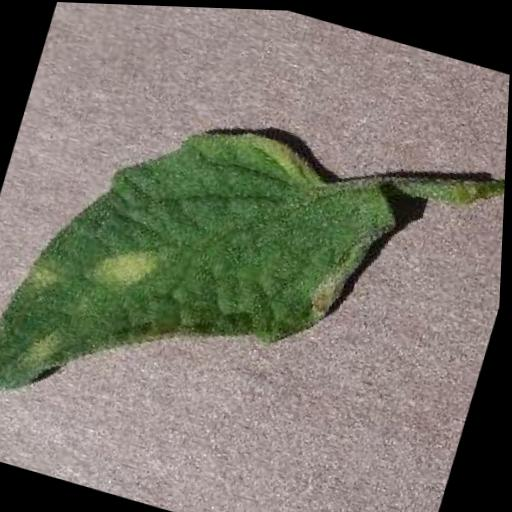Leaf Mold: (0, 71, 411, 483)
